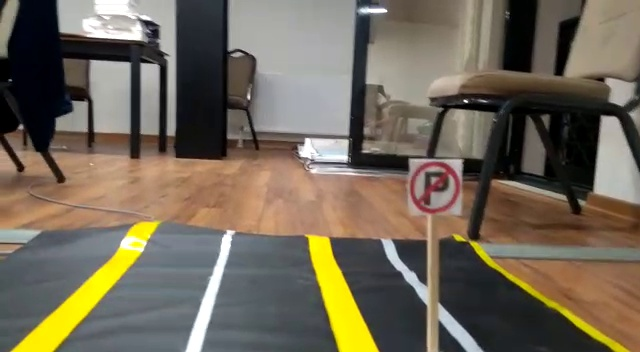park_yapilmaz: (408, 154, 467, 222)
